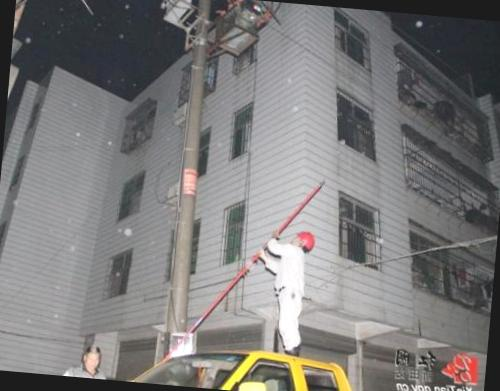no_helmet: (78, 341, 106, 374)
